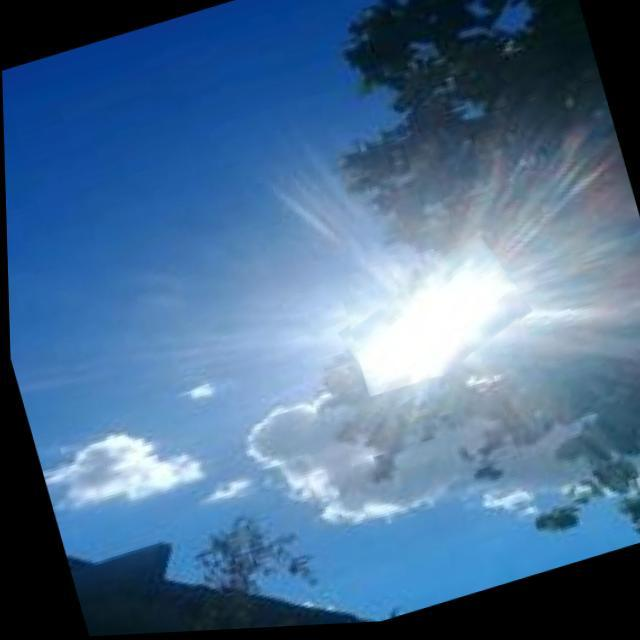sun: (353, 266, 512, 390)
